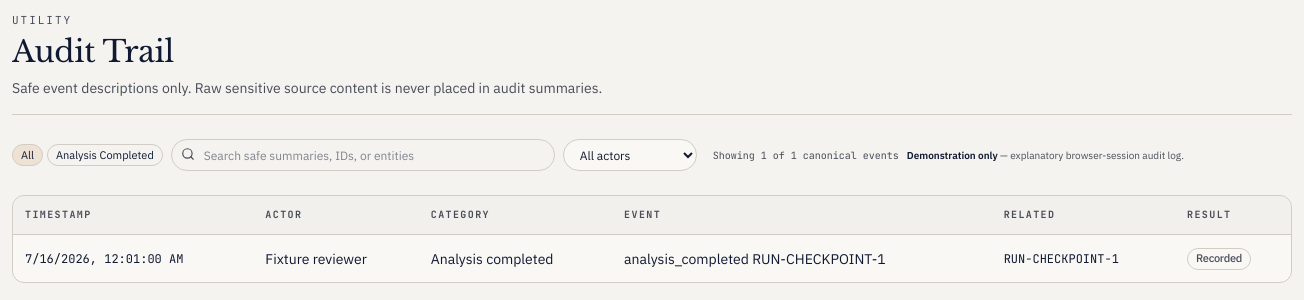
Scenario: canonical Audit Trail destination › filters canonical events without introducing note or preview records
The image size is (1304, 300).
Check: the heading "Audit Trail" is shown, box [12,32,174,70]
Check: the search field is shown, box [171,139,555,171]
Step 1. Select "Fixture reviewer" in the dropdown named "Actor" → {"x": 630, "y": 155}, box [563,139,697,171]
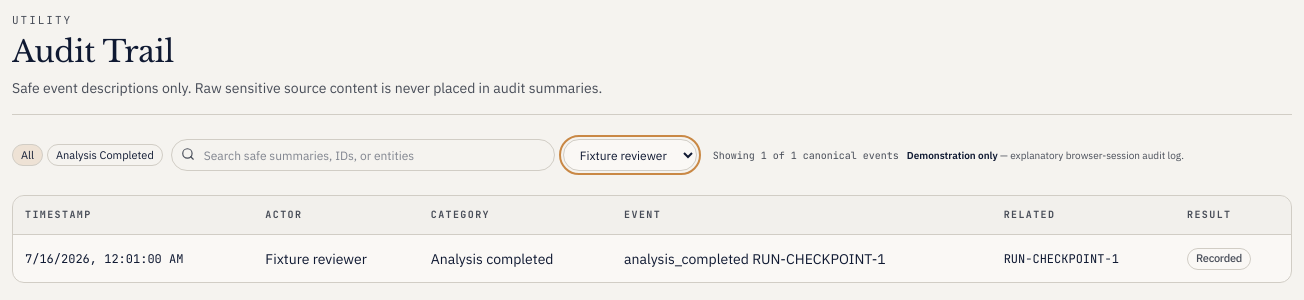
Step 2. Type "no matching audit summary" into the search field → {"x": 363, "y": 155}, box [171,139,555,171]
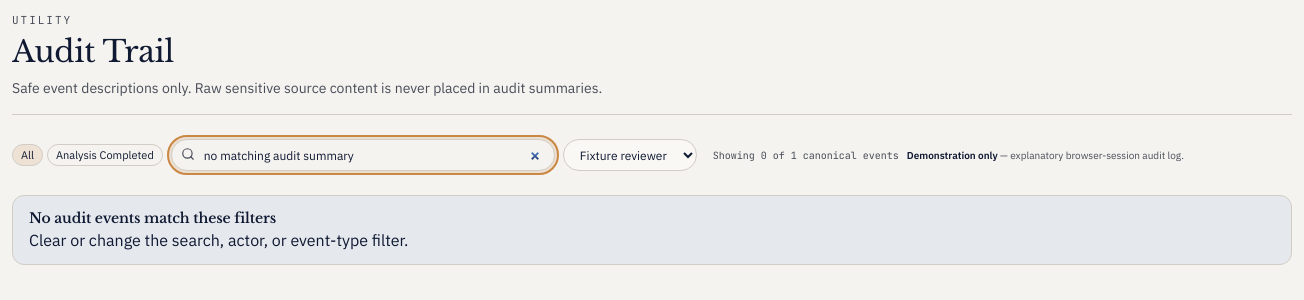
Check: the heading "No audit events match these filters" is shown, box [29,209,276,227]
